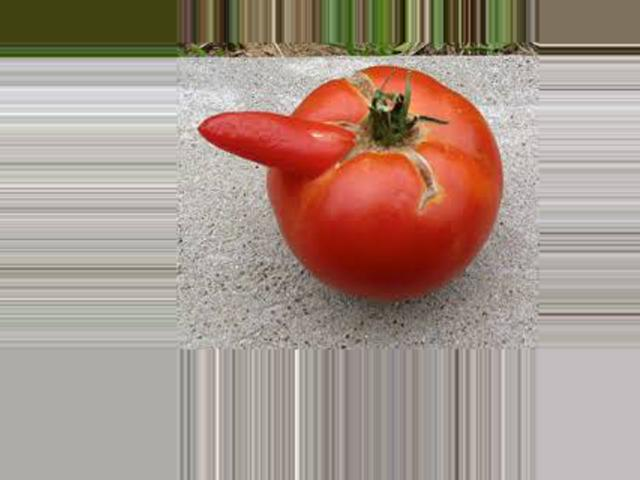tomato: (266, 65, 505, 293)
